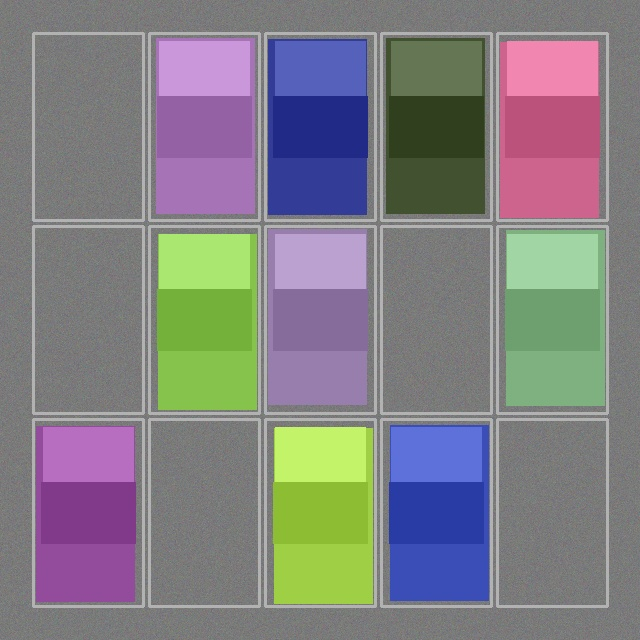space-empty: (35, 35, 141, 218), (35, 228, 141, 411), (383, 228, 489, 411), (151, 421, 257, 604), (499, 421, 605, 604)
space-occupied: (151, 35, 257, 218), (267, 35, 373, 218), (383, 35, 489, 218), (499, 35, 605, 218), (151, 228, 257, 411), (267, 228, 373, 411), (499, 228, 605, 411), (35, 421, 141, 604), (267, 421, 373, 604), (383, 421, 489, 604)
